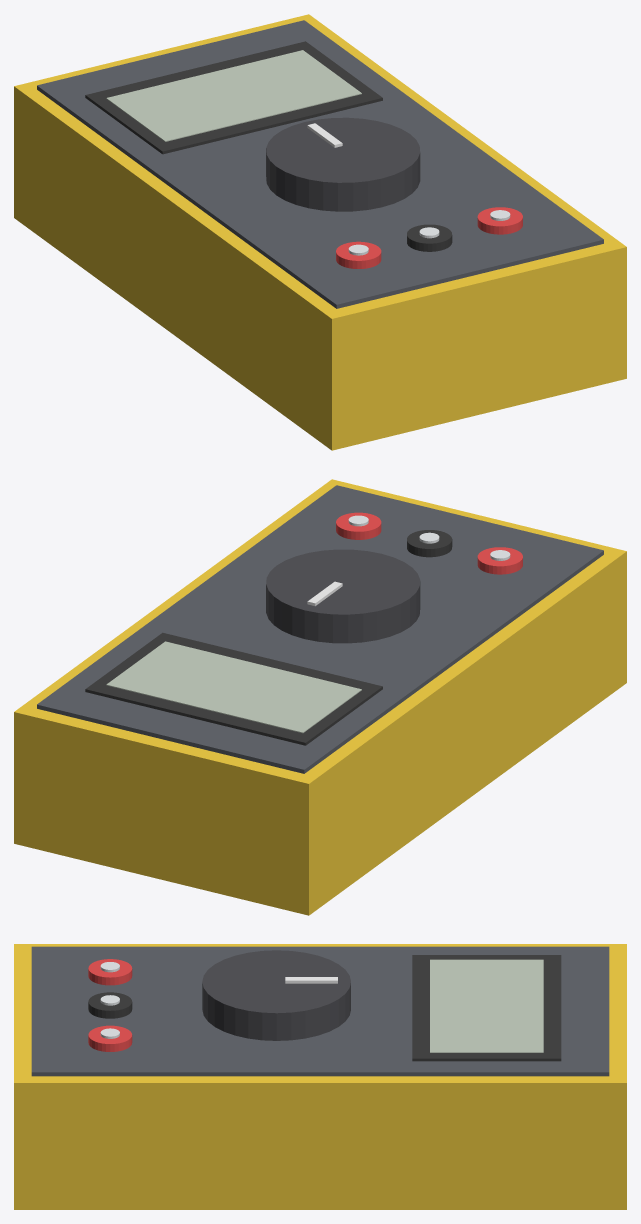
Rendered from multimeter_dmm.glb.
The picture shows the model from 3 angles, top to bottom: view 1: azimuth 30°, elevation 25°; view 2: azimuth 150°, elevation 25°; view 3: azimuth 270°, elevation 25°; orthographic projection. The views are drawn at different scales.
Visible parts, largest first — view 1: DMM_Holster, DMM_Faceplate, DMM_Rotary_Knob, DMM_LCD_Display, DMM_LCD_Bezel, Cylinder.004, Cylinder, Cylinder.002; view 2: DMM_Holster, DMM_Faceplate, DMM_Rotary_Knob, DMM_LCD_Display, DMM_LCD_Bezel, Cylinder, Cylinder.004, Cylinder.002; view 3: DMM_Holster, DMM_Faceplate, DMM_Rotary_Knob, DMM_LCD_Display, DMM_LCD_Bezel, Cylinder.002, Cylinder.004, Cylinder.
Boxes of the visible parts, bbox=[...] form: DMM_Holster: bbox=[14, 14, 626, 450]; DMM_Faceplate: bbox=[37, 20, 603, 308]; DMM_Rotary_Knob: bbox=[266, 117, 420, 211]; DMM_LCD_Display: bbox=[106, 50, 361, 141]; DMM_LCD_Bezel: bbox=[85, 41, 382, 154]; Cylinder.004: bbox=[477, 207, 522, 234]; Cylinder: bbox=[336, 241, 381, 268]; Cylinder.002: bbox=[407, 224, 452, 251]; DMM_Holster: bbox=[14, 479, 626, 915]; DMM_Faceplate: bbox=[37, 485, 603, 773]; DMM_Rotary_Knob: bbox=[266, 549, 420, 643]; DMM_LCD_Display: bbox=[106, 641, 361, 733]; DMM_LCD_Bezel: bbox=[85, 632, 382, 745]; Cylinder: bbox=[477, 547, 522, 574]; Cylinder.004: bbox=[336, 512, 381, 539]; Cylinder.002: bbox=[407, 530, 452, 557]; DMM_Holster: bbox=[14, 944, 626, 1209]; DMM_Faceplate: bbox=[31, 946, 609, 1076]; DMM_Rotary_Knob: bbox=[202, 950, 350, 1040]; DMM_LCD_Display: bbox=[430, 959, 543, 1052]; DMM_LCD_Bezel: bbox=[412, 955, 561, 1061]; Cylinder.002: bbox=[88, 992, 132, 1018]; Cylinder.004: bbox=[88, 1025, 132, 1051]; Cylinder: bbox=[88, 959, 132, 985].
Bounding box in the file's own units: 0.075 × 0.0407 × 0.14.
